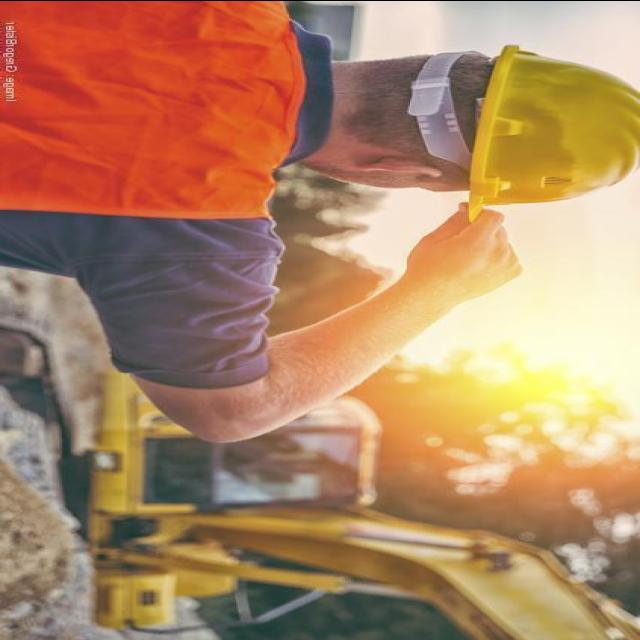helmet: (472, 31, 636, 229)
